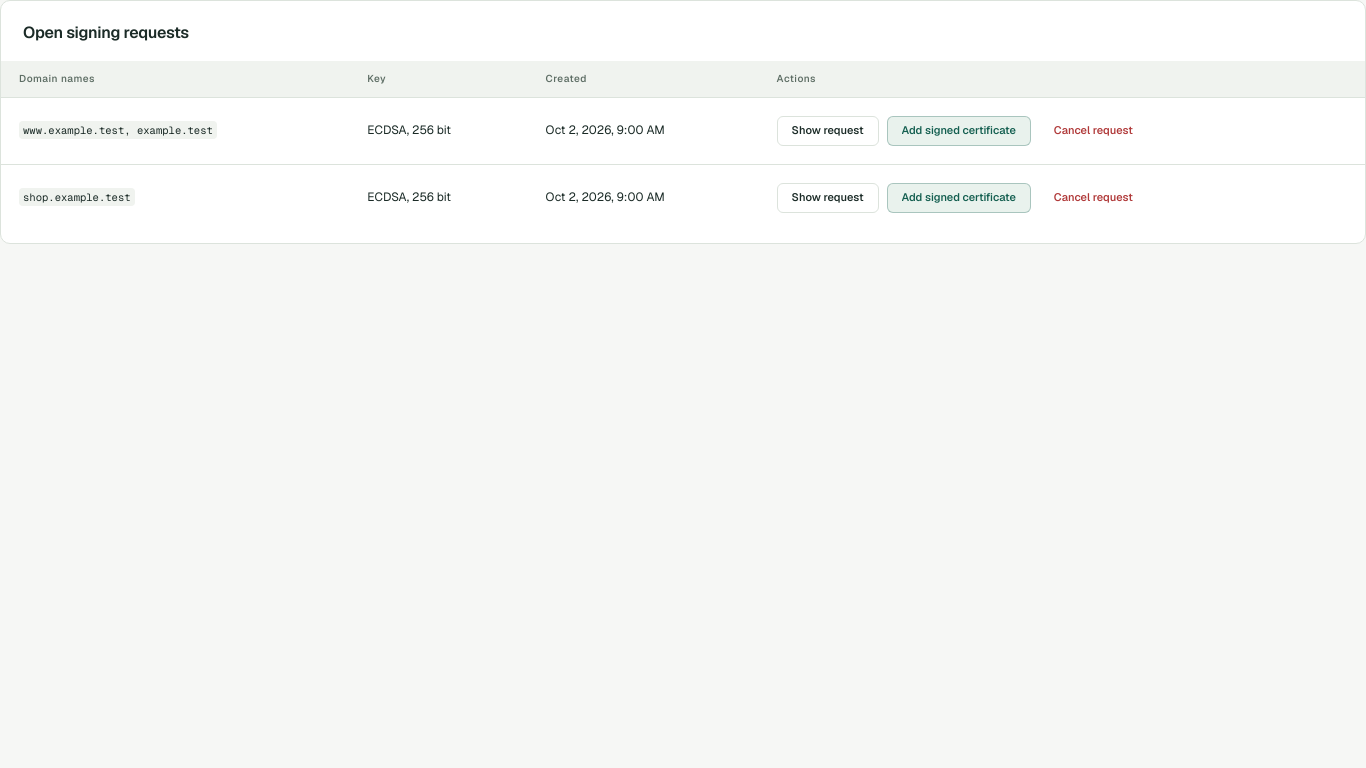
Test case: PendingCSRs › shows the server text when the request is no longer pending
Click the button "Cancel request" in the row of "www.example.test, example.test" at (1093, 130), box [1039,116,1148,146]
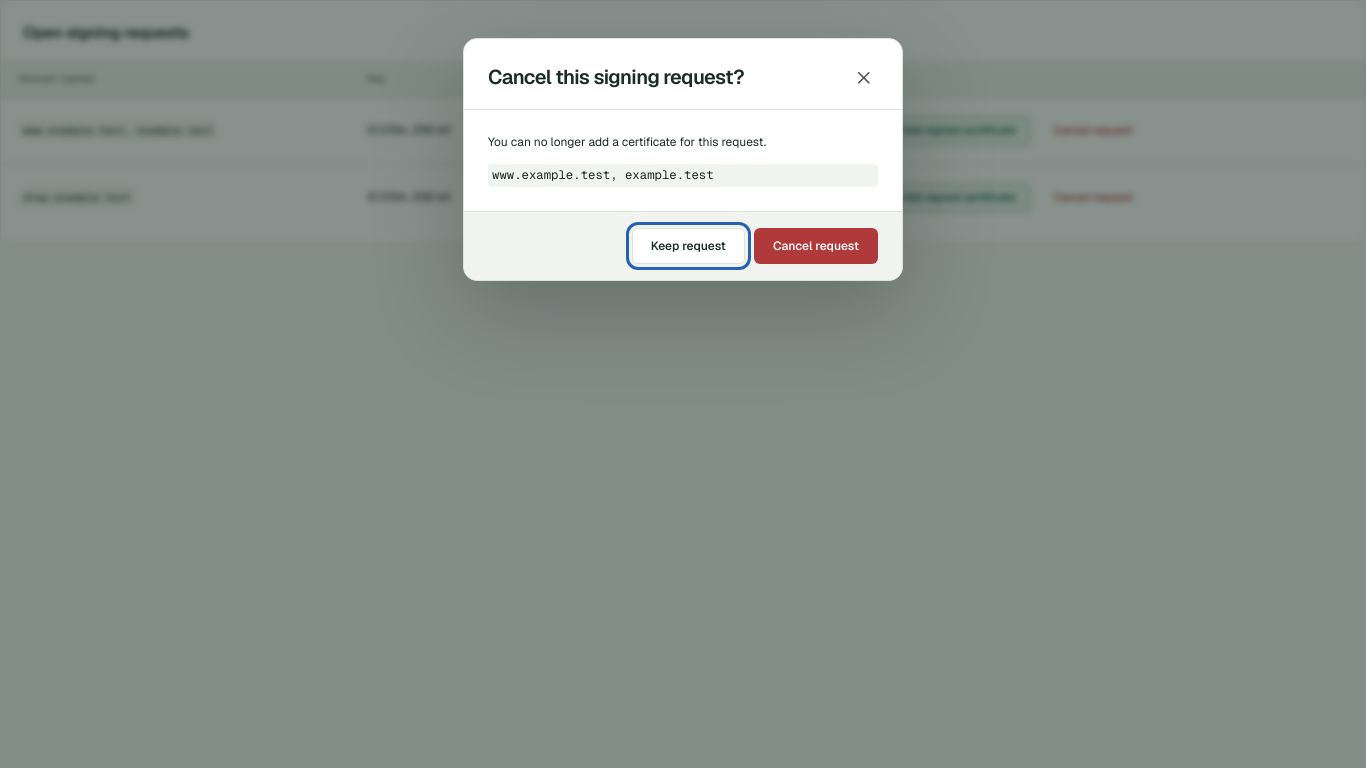
Click the button "Cancel request" at (816, 246), box [754,228,878,264]
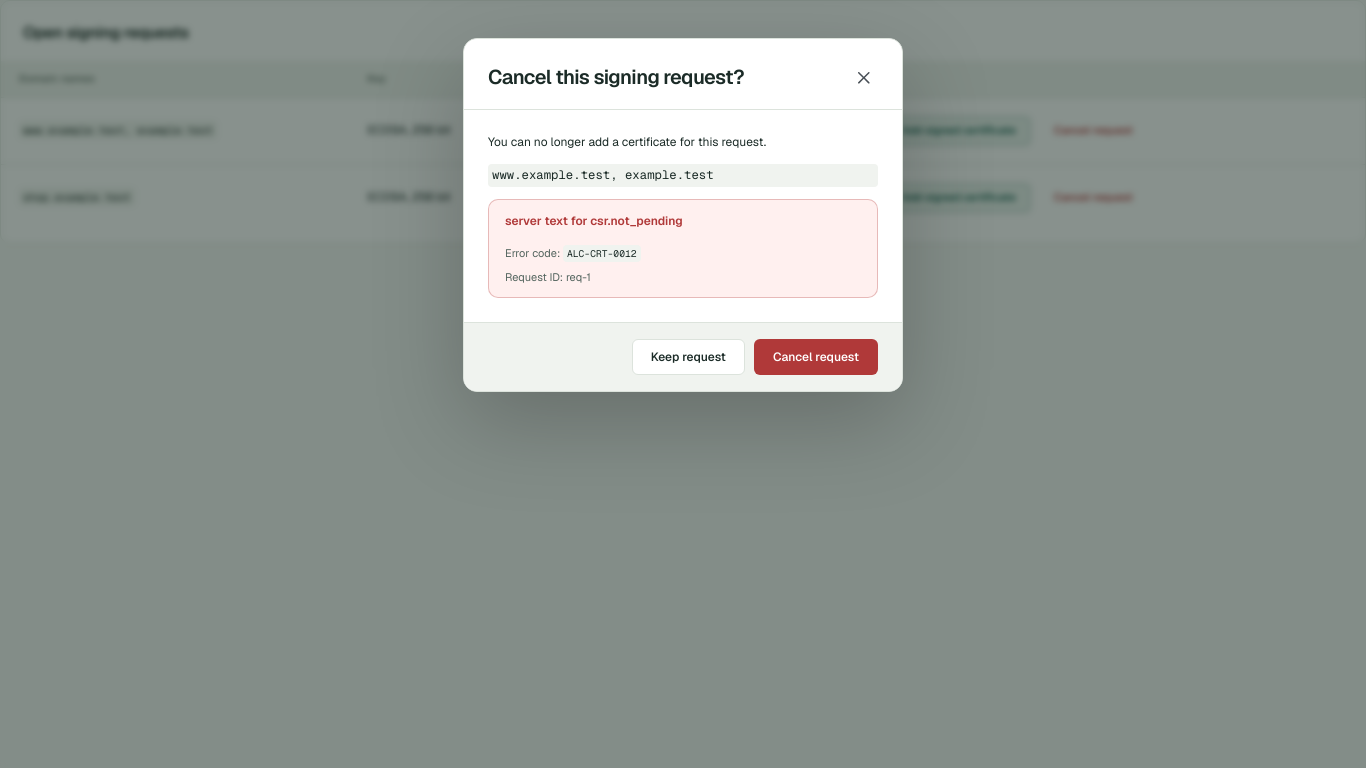
Expected: the message "server text for csr.not_pending Error code: ALC-CRT-0012 Request ID: req-1" is shown, [488,199,878,298]
